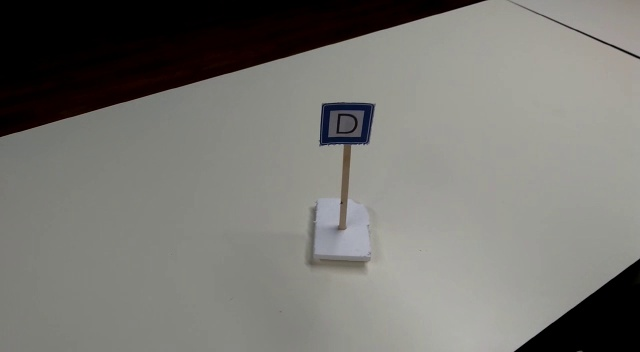durak: (317, 99, 375, 146)
